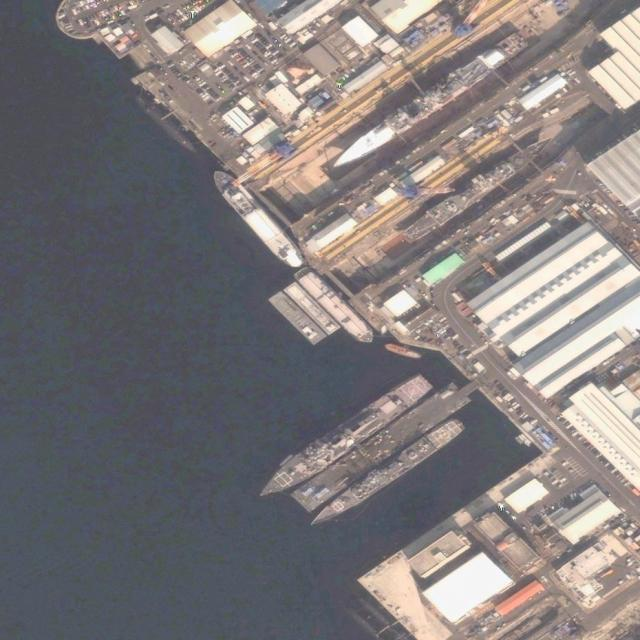Destroyer: (253, 368, 434, 506)
Dock: (289, 377, 471, 515)
Frigate: (306, 412, 469, 532)
Other Ship: (205, 163, 310, 277), (292, 262, 378, 350), (383, 339, 423, 363)
